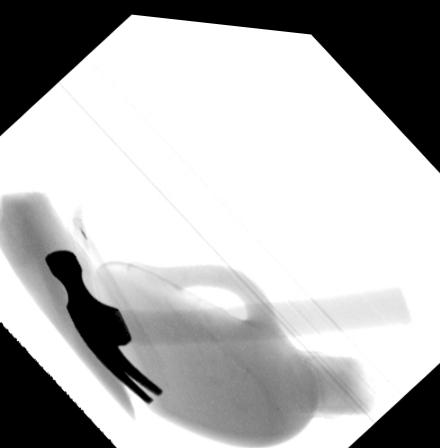Hammer: (44, 248, 411, 402)
